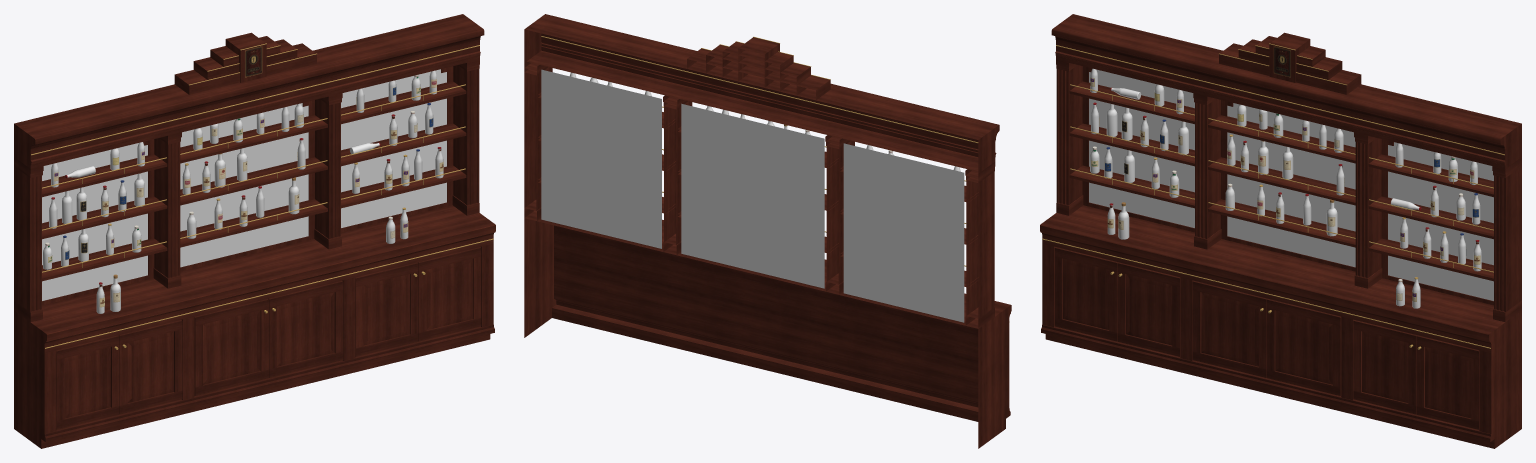
Rendered from BackBar.glb.
3 renders of one model, left to right at view 1: azimuth 30°, elevation 25°; view 2: azimuth 150°, elevation 25°; view 3: azimuth 330°, elevation 25°, orthographic.
Parts seen in each view (by area): view 1: BackBar_Wood, BackBar_Backlight, BackBar_GlassClear, BackBar_Brass, BackBar_Labels, BackBar_GlassAmber, BackBar_GlassGreen, BackBar_Inlay; view 2: BackBar_Wood, BackBar_Backlight, BackBar_Brass; view 3: BackBar_Wood, BackBar_Backlight, BackBar_GlassClear, BackBar_Brass, BackBar_Labels, BackBar_GlassAmber, BackBar_GlassGreen, BackBar_Inlay.
Part boxes in pixels (x1,y1,x2,y2): BackBar_Wood: [14, 14, 495, 448]; BackBar_Backlight: [42, 69, 446, 300]; BackBar_GlassClear: [43, 76, 443, 313]; BackBar_Brass: [31, 43, 493, 349]; BackBar_Labels: [45, 75, 443, 307]; BackBar_GlassAmber: [67, 70, 436, 229]; BackBar_GlassGreen: [61, 80, 433, 267]; BackBar_Inlay: [245, 46, 262, 77]; BackBar_Wood: [524, 14, 1011, 448]; BackBar_Backlight: [541, 69, 964, 322]; BackBar_Brass: [541, 36, 978, 266]; BackBar_Wood: [1040, 14, 1521, 448]; BackBar_Backlight: [1089, 69, 1493, 300]; BackBar_GlassClear: [1090, 68, 1481, 308]; BackBar_Brass: [1042, 43, 1504, 349]; BackBar_Labels: [1090, 77, 1480, 301]; BackBar_GlassAmber: [1111, 88, 1477, 225]; BackBar_GlassGreen: [1104, 103, 1480, 264]; BackBar_Inlay: [1273, 46, 1290, 77].
Bounding box in the file's own units: 3.8 × 2.74 × 0.482.
Materials: 14 (4 with a texture image).
